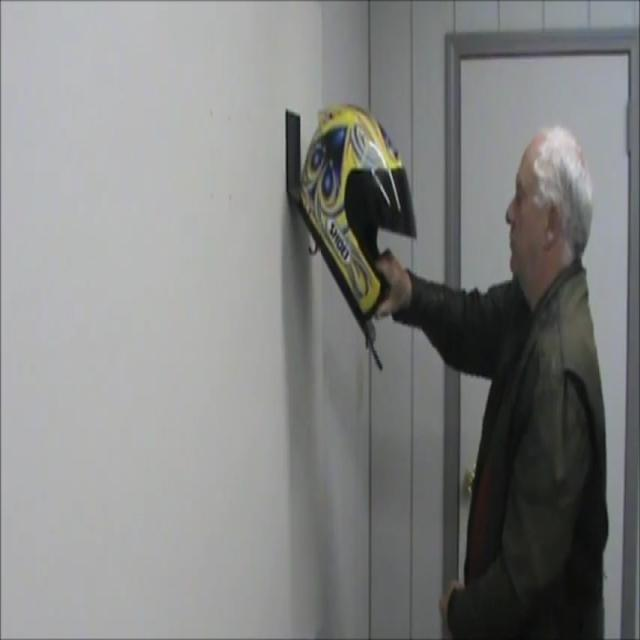Jacket_Wearer: (412, 260, 602, 640)
Person: (399, 127, 607, 640)
